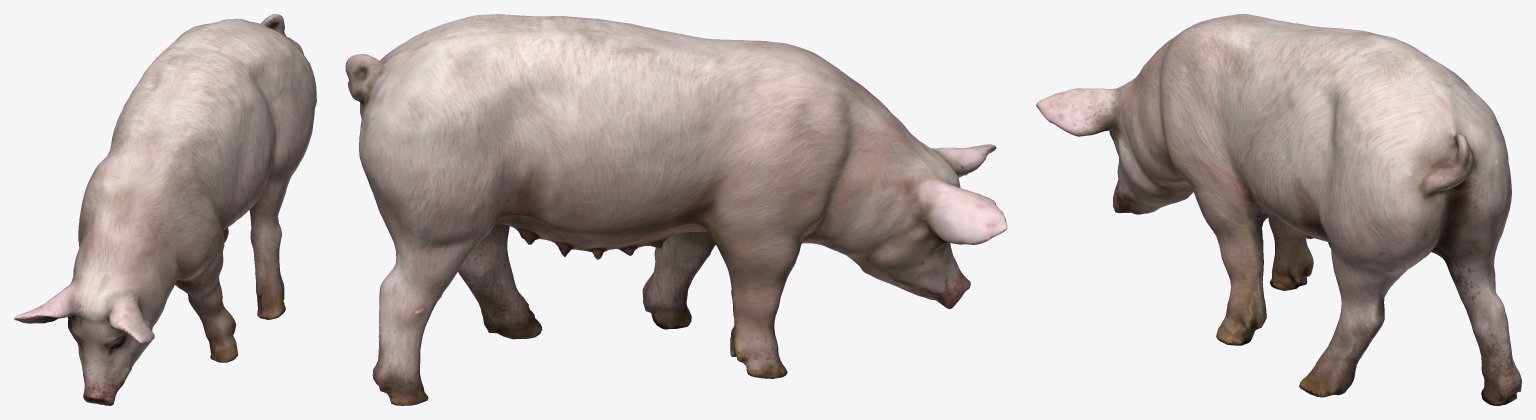
The model's file is pig.obj.
3 renders of one model, left to right at view 1: azimuth 30°, elevation 25°; view 2: azimuth 150°, elevation 25°; view 3: azimuth 270°, elevation 25°, orthographic. The views are drawn at different scales.
Visible parts, largest first — view 1: obj1; view 2: obj1; view 3: obj1.
Boxes of the visible parts, x1,y1,x2,y2 form: obj1: [14, 14, 316, 405]; obj1: [345, 14, 1007, 405]; obj1: [1036, 14, 1521, 405].
Size of the model in its own units: 0.1113 by 0.0714 by 0.0983.
1 material, 1 textured.
